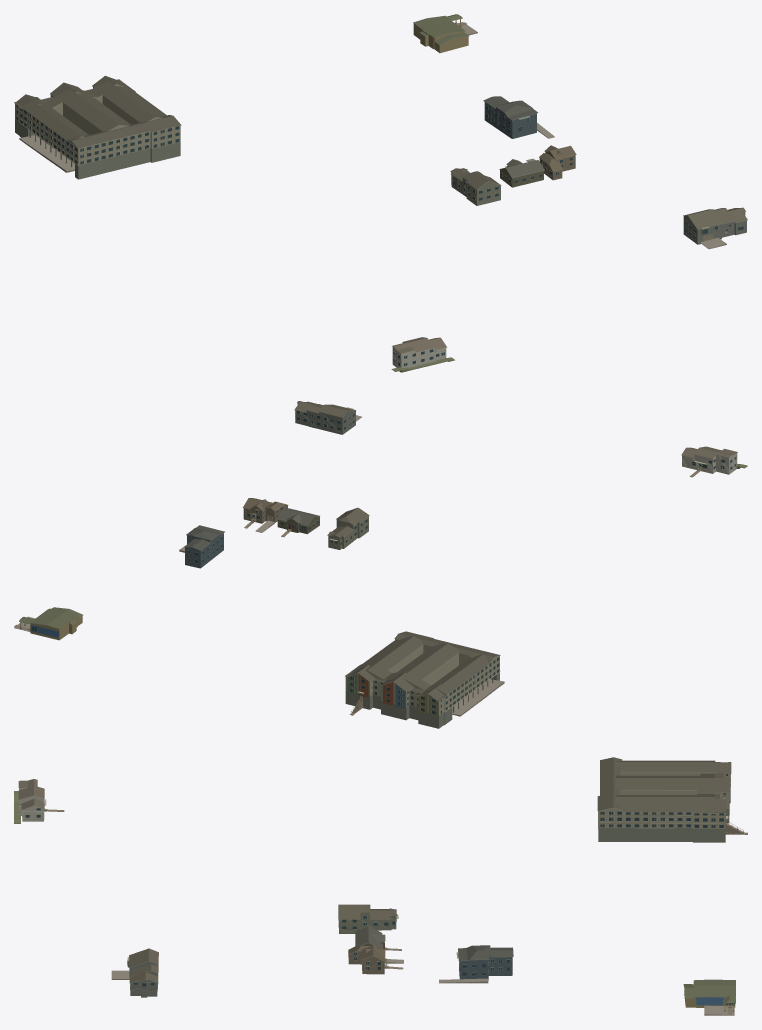
File: site.glb
3 views of the same model, one above another, from view 1: azimuth 30°, elevation 25°; view 2: azimuth 150°, elevation 25°; view 3: azimuth 270°, elevation 25° (orthographic). The views are drawn at different scales.
Parts seen in each view (by area): view 1: roof-a40877e3, roof-58d0ebc7, roof-06636962, roof-a7890474, agate-emerald-approaches, roof-5a32e480, roof-aba1513b, roof-28502c01, east20-1470; view 2: roof-a40877e3, roof-58d0ebc7, roof-a7890474, roof-06636962, roof-5a32e480, agate-emerald-approaches, roof-aba1513b, east20-1470, roof-28502c01; view 3: roof-a40877e3, roof-06636962, roof-aba1513b, roof-a7890474, roof-58d0ebc7, agate-emerald-approaches, roof-5a32e480, east20-1470, roof-28502c01.
Boxes of the visible parts, x1,y1,x2,y2 form: roof-a40877e3: [14, 75, 181, 179]; roof-58d0ebc7: [683, 207, 747, 244]; roof-06636962: [483, 96, 538, 138]; roof-a7890474: [413, 14, 469, 53]; agate-emerald-approaches: [19, 22, 726, 372]; roof-5a32e480: [392, 337, 447, 367]; roof-aba1513b: [450, 168, 501, 205]; roof-28502c01: [499, 159, 544, 187]; east20-1470: [539, 145, 576, 180]; roof-a40877e3: [345, 631, 500, 728]; roof-58d0ebc7: [294, 401, 356, 434]; roof-a7890474: [19, 607, 82, 640]; roof-06636962: [184, 525, 224, 568]; roof-5a32e480: [681, 446, 737, 474]; agate-emerald-approaches: [14, 415, 747, 716]; roof-aba1513b: [327, 507, 369, 549]; east20-1470: [243, 498, 288, 523]; roof-28502c01: [277, 508, 320, 534]; roof-a40877e3: [597, 757, 731, 842]; roof-06636962: [456, 945, 513, 980]; roof-aba1513b: [338, 904, 398, 933]; roof-a7890474: [683, 979, 735, 1011]; roof-58d0ebc7: [127, 948, 158, 997]; agate-emerald-approaches: [14, 791, 747, 1015]; roof-5a32e480: [18, 779, 46, 821]; east20-1470: [348, 945, 386, 974]; roof-28502c01: [355, 926, 385, 948].
Bounding box in the file's own units: 195 × 16.37 × 266.
